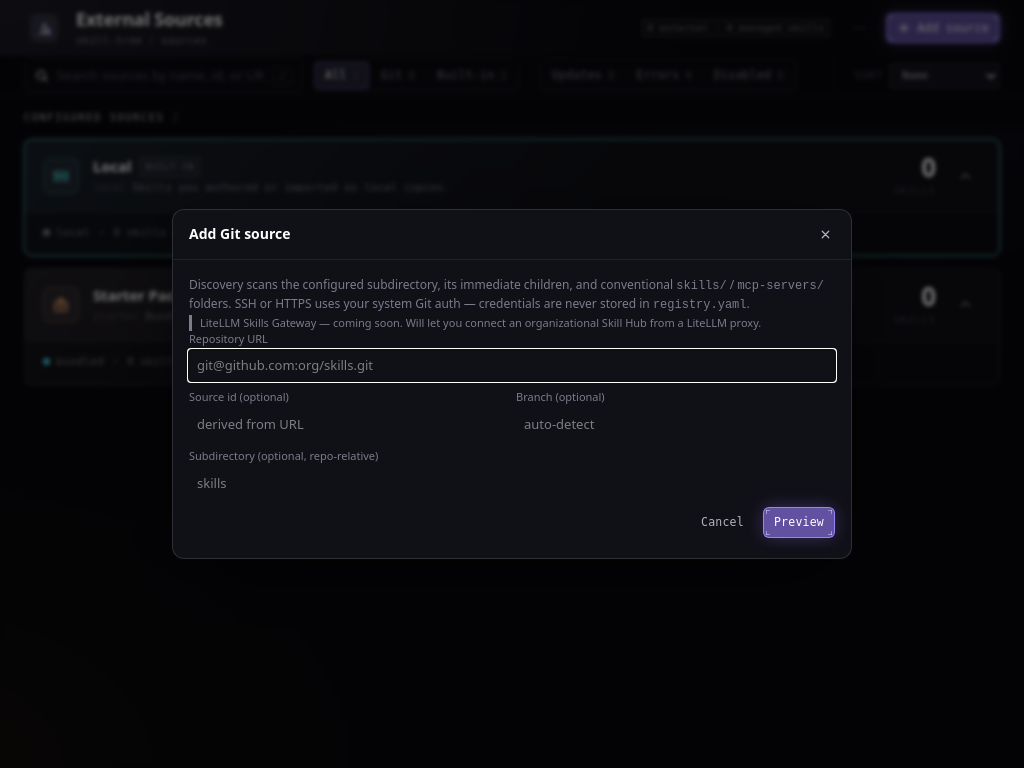
it: AddSourceModal — source-id derivation & collision › re-arms auto-derivation when the id field is cleared
Type "git@github.com:org/alpha.git" into the field with placeholder "git@github.com:org/skills.git" at (512, 366), box [189,350,835,381]
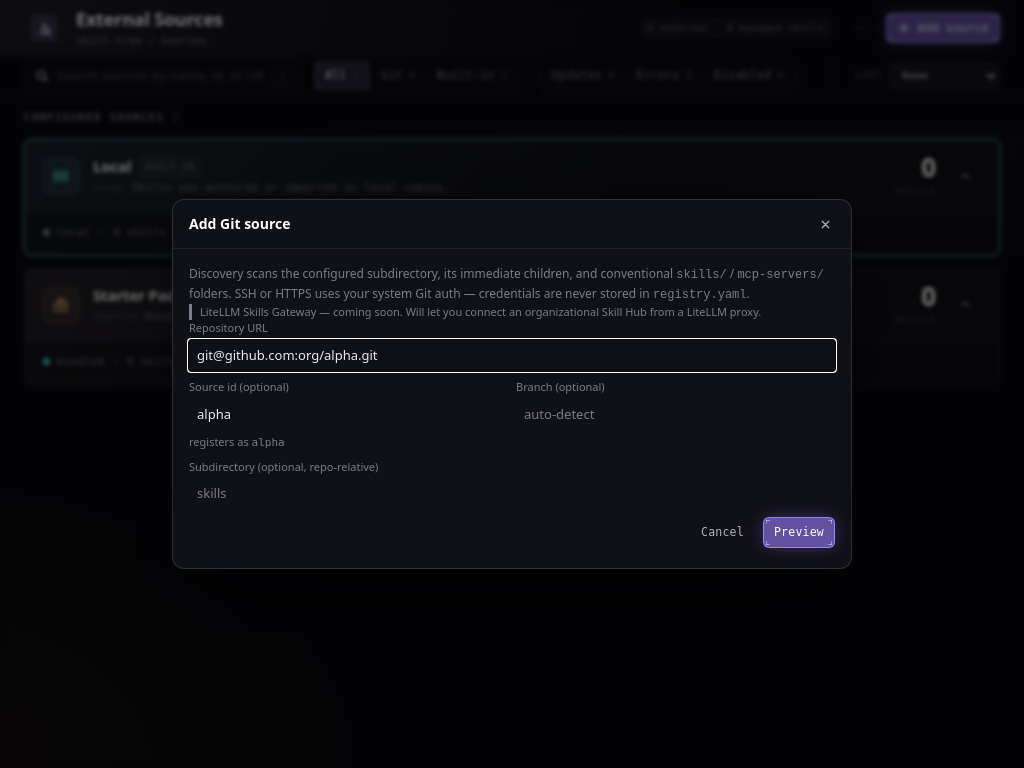
Expected: the field with placeholder "derived from URL" holds "alpha"
# User edits the id, breaking the mirror…
Replace the text in the field with placeholder "derived from URL" with "custom" at (348, 414), box [189,399,508,430]
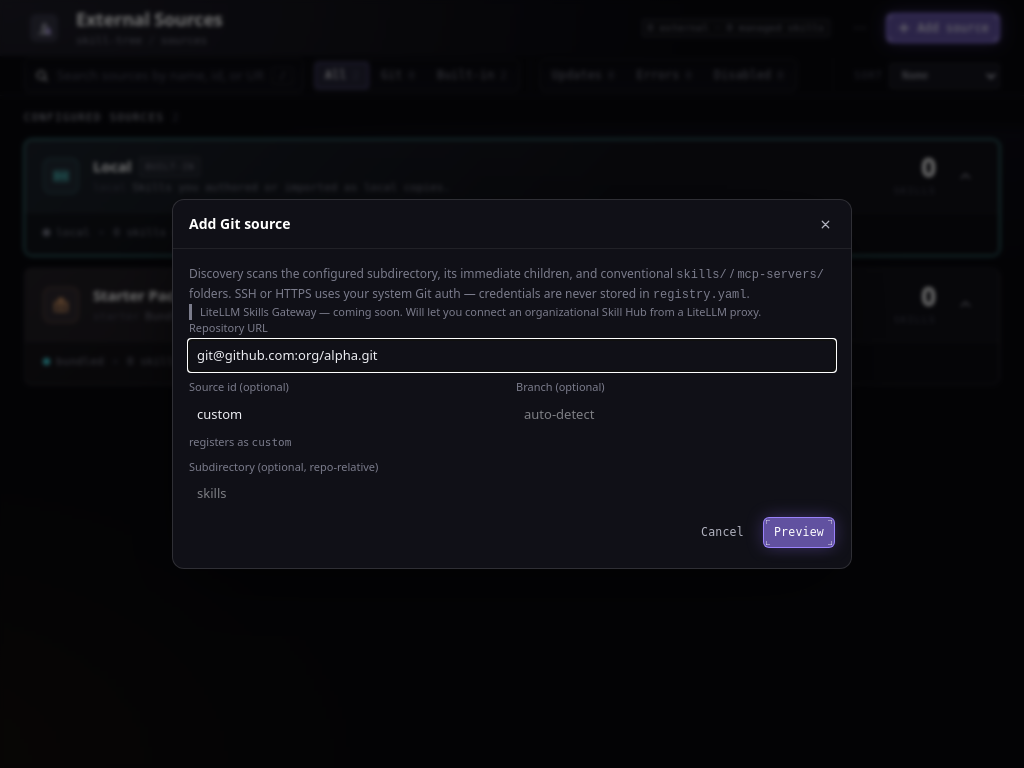
Replace the text in the field with placeholder "git@github.com:org/skills.git" with "git@github.com:org/beta.git" at (512, 355), box [189,340,835,371]
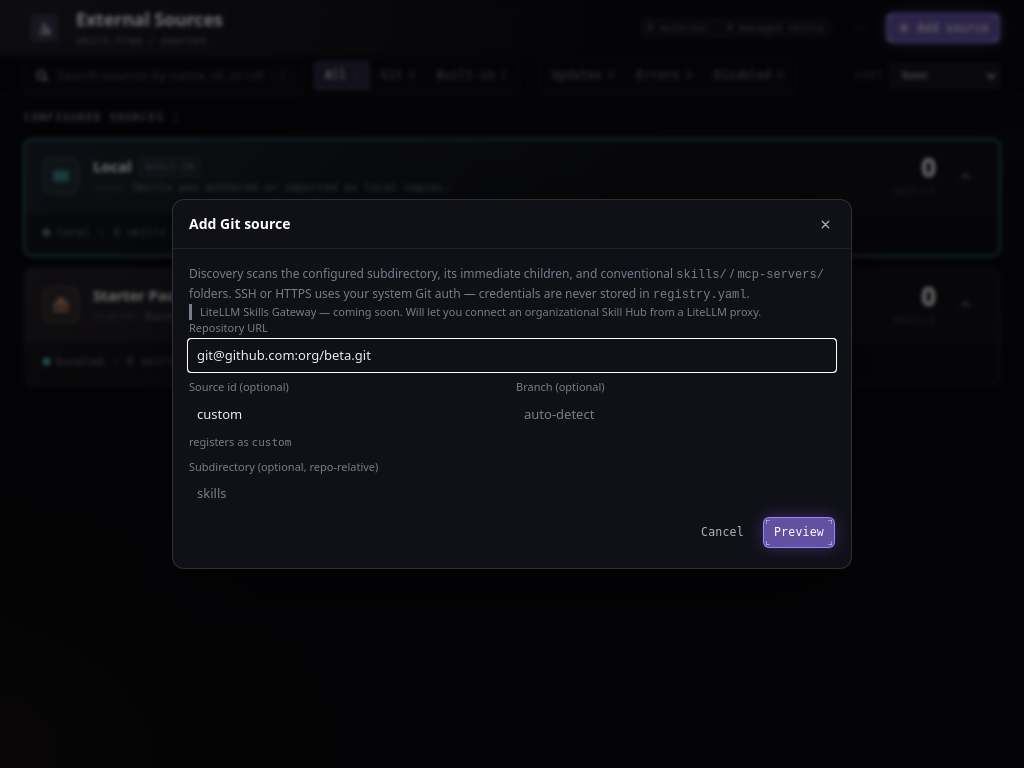
# …clearing it re-arms derivation from the URL.
Clear the field with placeholder "derived from URL" at (348, 414), box [189,399,508,430]
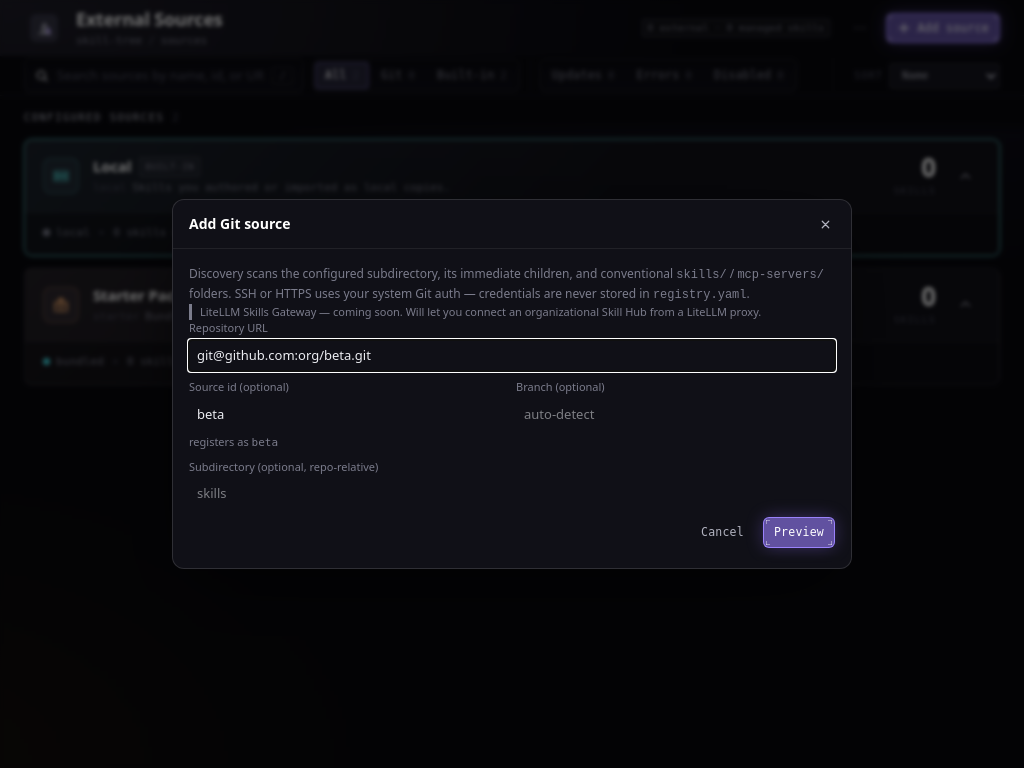
Replace the text in the field with placeholder "git@github.com:org/skills.git" with "git@github.com:org/gamma.git" at (512, 355), box [189,340,835,371]
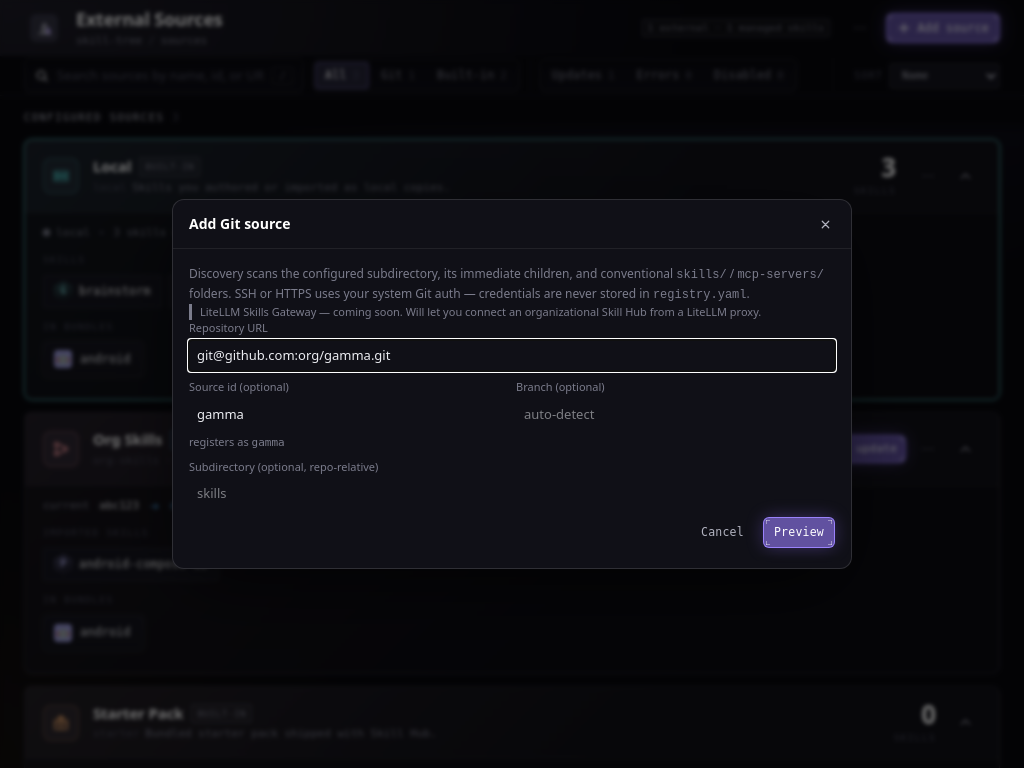
Expected: the field with placeholder "derived from URL" holds "gamma", [189,399,508,430]
